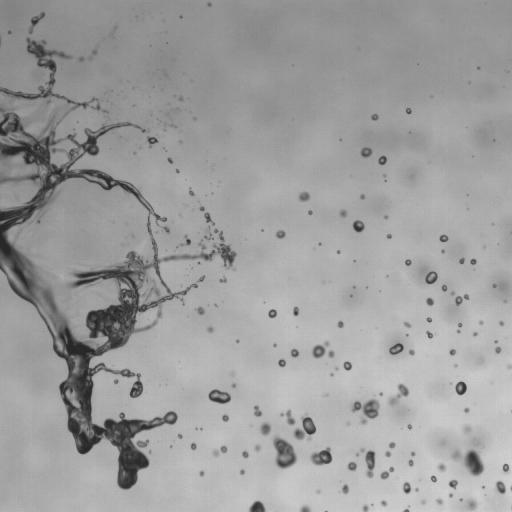droplet: (349, 393, 380, 425), (450, 447, 484, 476), (271, 434, 297, 469), (292, 412, 316, 441), (386, 383, 409, 407), (309, 445, 332, 465), (208, 388, 231, 404), (310, 340, 330, 358), (277, 408, 296, 425), (144, 133, 159, 148), (248, 500, 267, 511), (389, 342, 403, 356), (454, 293, 469, 306), (258, 421, 271, 436), (465, 498, 479, 511), (454, 380, 466, 395), (352, 220, 365, 233), (425, 270, 437, 284), (494, 480, 506, 494), (401, 481, 412, 494), (360, 147, 372, 158), (298, 191, 310, 202), (436, 462, 447, 473), (338, 483, 349, 494), (30, 30, 41, 41), (15, 196, 26, 207), (154, 231, 165, 242), (187, 243, 198, 254), (216, 265, 227, 276), (205, 274, 216, 285), (127, 332, 138, 343), (300, 346, 311, 357), (333, 354, 344, 365), (57, 369, 68, 380), (89, 393, 100, 404), (377, 402, 388, 413), (140, 410, 151, 421), (93, 415, 104, 426), (64, 433, 75, 444), (284, 433, 295, 444), (262, 434, 273, 445), (98, 436, 109, 447), (109, 446, 120, 457), (228, 446, 239, 457), (477, 451, 488, 462), (356, 458, 367, 469), (373, 461, 384, 472), (459, 465, 470, 476), (438, 472, 449, 483), (194, 305, 205, 315), (346, 461, 357, 471), (501, 463, 511, 474), (501, 473, 511, 484), (253, 405, 262, 417), (462, 424, 472, 434), (448, 479, 458, 489), (425, 330, 437, 338), (275, 230, 285, 239), (267, 309, 277, 318), (290, 348, 299, 358), (342, 361, 352, 370), (362, 503, 373, 511), (0, 200, 8, 211), (299, 504, 311, 511), (425, 297, 434, 306), (252, 443, 261, 452), (435, 496, 444, 505), (81, 48, 90, 57), (28, 54, 37, 63), (95, 136, 104, 145), (369, 152, 378, 161), (71, 162, 80, 171), (103, 166, 112, 175), (131, 179, 140, 188), (140, 189, 149, 198), (301, 200, 310, 209), (182, 245, 191, 254), (212, 253, 221, 262), (223, 268, 232, 277), (426, 322, 435, 331), (112, 346, 121, 355), (283, 353, 292, 362), (88, 357, 97, 366), (58, 403, 67, 412), (59, 413, 68, 422), (254, 416, 263, 425), (294, 420, 303, 429), (459, 447, 468, 456), (444, 458, 453, 467), (110, 461, 119, 470), (372, 465, 381, 474), (136, 467, 145, 476), (487, 482, 496, 491), (452, 487, 461, 496), (473, 493, 482, 502), (426, 497, 435, 506), (378, 155, 386, 165), (339, 209, 347, 218), (439, 234, 448, 242), (206, 325, 215, 333), (278, 358, 286, 367), (241, 449, 249, 458), (505, 318, 511, 329), (505, 487, 511, 498), (371, 505, 382, 511), (430, 505, 441, 511), (458, 505, 469, 511), (219, 275, 227, 283), (221, 414, 229, 422), (188, 187, 195, 196), (293, 306, 299, 316), (371, 113, 378, 121), (403, 259, 411, 266), (336, 320, 343, 328), (403, 321, 411, 328), (327, 350, 334, 358), (189, 442, 196, 450), (429, 475, 437, 482), (0, 272, 5, 283), (494, 346, 501, 353), (477, 357, 484, 364), (32, 9, 39, 16), (1, 32, 8, 39), (43, 43, 50, 50), (72, 51, 79, 58), (51, 54, 58, 61), (70, 56, 77, 63), (43, 67, 50, 74), (53, 72, 60, 79), (11, 85, 18, 92), (22, 87, 29, 94), (172, 99, 179, 106), (161, 115, 168, 122), (140, 132, 147, 139), (168, 163, 175, 170), (111, 172, 118, 179), (3, 180, 10, 187), (299, 185, 306, 192), (292, 191, 299, 198), (149, 222, 156, 229), (190, 237, 197, 244), (174, 248, 181, 255), (232, 256, 239, 263), (177, 258, 184, 265), (158, 261, 165, 268), (434, 279, 441, 286), (9, 291, 16, 298), (473, 324, 480, 331), (316, 338, 323, 345), (306, 344, 313, 351), (401, 348, 408, 355), (59, 358, 66, 365), (90, 374, 97, 381), (129, 375, 136, 382), (404, 381, 411, 388), (392, 387, 399, 394), (55, 394, 62, 401), (359, 398, 366, 405), (356, 408, 363, 415), (157, 410, 164, 417), (124, 413, 131, 420), (113, 415, 120, 422), (97, 420, 104, 427), (288, 424, 295, 431), (66, 431, 73, 438), (467, 431, 474, 438), (130, 436, 137, 443), (91, 443, 98, 450), (315, 445, 322, 452), (472, 445, 479, 452), (139, 446, 146, 453), (247, 448, 254, 455), (270, 448, 277, 455), (445, 449, 452, 456), (145, 453, 152, 460), (373, 454, 380, 461), (350, 455, 357, 462), (437, 456, 444, 463), (287, 464, 294, 471), (274, 465, 281, 472), (433, 469, 440, 476), (478, 471, 485, 478), (119, 487, 126, 494), (441, 494, 448, 501), (246, 499, 253, 506), (461, 499, 468, 506), (262, 501, 269, 508), (374, 501, 381, 508), (308, 504, 315, 511), (241, 506, 250, 511), (309, 506, 318, 511), (378, 506, 387, 511), (198, 205, 205, 211), (470, 258, 476, 265), (441, 284, 447, 291), (408, 349, 415, 355), (449, 349, 456, 355), (229, 370, 235, 377), (406, 423, 412, 430), (420, 498, 426, 505), (380, 500, 387, 506), (459, 256, 464, 264), (408, 459, 413, 467), (78, 56, 84, 62), (178, 95, 184, 101), (405, 108, 411, 114), (167, 157, 173, 163), (239, 469, 245, 475), (0, 134, 4, 143), (471, 332, 478, 337), (450, 290, 455, 296), (499, 320, 504, 326), (231, 382, 236, 388), (464, 407, 469, 413), (177, 433, 182, 439), (410, 451, 415, 457), (199, 470, 204, 476), (315, 489, 321, 494), (448, 492, 453, 498), (293, 507, 300, 511), (472, 507, 479, 511), (175, 168, 180, 173), (360, 194, 365, 199), (178, 213, 183, 218), (383, 214, 388, 219), (426, 317, 431, 322), (478, 320, 483, 325), (272, 342, 277, 347), (506, 364, 511, 369), (329, 372, 334, 377), (113, 379, 118, 384), (346, 421, 351, 426), (26, 20, 31, 25), (35, 21, 40, 26), (22, 41, 27, 46), (89, 44, 94, 49), (55, 46, 60, 51), (22, 47, 27, 52), (96, 48, 101, 53), (63, 49, 68, 54), (86, 50, 91, 55), (78, 51, 83, 56), (92, 54, 97, 59), (83, 58, 88, 63), (55, 64, 60, 69), (44, 76, 49, 81), (1, 83, 6, 88), (42, 84, 47, 89), (51, 88, 56, 93), (34, 89, 39, 94), (93, 92, 98, 97), (78, 97, 83, 102), (99, 103, 104, 108), (165, 104, 170, 109), (369, 109, 374, 114), (121, 117, 126, 122), (129, 118, 134, 123), (112, 119, 117, 124), (166, 119, 171, 124), (172, 119, 177, 124), (106, 120, 111, 125), (140, 123, 145, 128), (120, 125, 125, 130), (126, 125, 131, 130), (165, 125, 170, 130), (112, 127, 117, 132), (105, 130, 110, 135), (148, 132, 153, 137), (152, 142, 157, 147), (364, 142, 369, 147), (131, 145, 136, 150), (356, 147, 361, 152), (83, 151, 88, 156), (356, 152, 361, 157), (94, 153, 99, 158), (359, 155, 364, 160), (384, 160, 389, 165), (68, 165, 73, 170), (308, 191, 313, 196), (355, 192, 360, 197), (185, 193, 190, 198), (149, 200, 154, 205), (195, 203, 200, 208), (199, 210, 204, 215), (335, 212, 340, 217), (149, 214, 154, 219), (209, 214, 214, 219), (361, 218, 366, 223), (213, 223, 218, 228), (348, 224, 353, 229), (209, 225, 214, 230), (278, 225, 283, 230), (350, 228, 355, 233), (360, 229, 365, 234), (284, 231, 289, 236), (152, 233, 157, 238), (279, 237, 284, 242), (181, 238, 186, 243), (223, 240, 228, 245), (229, 245, 234, 250), (165, 251, 170, 256), (156, 253, 161, 258), (473, 254, 478, 259), (199, 257, 204, 262), (185, 258, 190, 263), (192, 258, 197, 263), (464, 258, 469, 263), (168, 259, 173, 264), (468, 263, 473, 268), (195, 273, 200, 278), (420, 276, 425, 281), (191, 278, 196, 283), (197, 281, 202, 286), (166, 282, 171, 287), (5, 284, 10, 289), (180, 285, 185, 290), (446, 287, 451, 292), (170, 288, 175, 293), (349, 288, 354, 293), (9, 289, 14, 294), (182, 294, 187, 299), (430, 294, 435, 299), (450, 295, 455, 300), (17, 296, 22, 301), (461, 298, 466, 303), (164, 299, 169, 304), (450, 299, 455, 304), (26, 301, 31, 306), (422, 301, 427, 306), (201, 303, 206, 308), (266, 305, 271, 310), (288, 308, 293, 313), (297, 309, 302, 314), (193, 310, 198, 315), (275, 312, 280, 317), (200, 313, 205, 318), (35, 314, 40, 319), (271, 316, 276, 321), (157, 317, 162, 322), (407, 318, 412, 323), (333, 319, 338, 324), (473, 319, 478, 324), (503, 320, 508, 325), (342, 321, 347, 326), (153, 324, 158, 329), (403, 326, 408, 331), (146, 328, 151, 333), (44, 329, 49, 334), (203, 330, 208, 335), (209, 331, 214, 336), (47, 335, 52, 340), (326, 336, 331, 341), (390, 340, 395, 345), (492, 342, 497, 347), (48, 343, 53, 348), (288, 344, 293, 349), (448, 344, 453, 349), (296, 346, 301, 351), (324, 346, 329, 351), (413, 347, 418, 352), (454, 347, 459, 352), (490, 348, 495, 353), (323, 351, 328, 356), (333, 351, 338, 356), (52, 352, 57, 357), (297, 352, 302, 357), (453, 352, 458, 357), (496, 352, 501, 357), (388, 353, 393, 358), (292, 356, 297, 361), (311, 356, 316, 361), (273, 359, 278, 364), (350, 361, 355, 366), (105, 363, 110, 368), (111, 365, 116, 370), (117, 365, 122, 370), (350, 365, 355, 370), (339, 366, 344, 371), (129, 367, 134, 372), (329, 367, 334, 372), (333, 370, 338, 375), (106, 371, 111, 376), (116, 373, 121, 378), (139, 377, 144, 382), (230, 377, 235, 382), (452, 379, 457, 384), (141, 382, 146, 387), (465, 383, 470, 388), (126, 386, 131, 391), (218, 386, 223, 391), (450, 386, 455, 391), (206, 387, 211, 392), (55, 388, 60, 393), (464, 389, 469, 394), (452, 391, 457, 396), (203, 393, 208, 398), (137, 394, 142, 399), (400, 394, 405, 399), (204, 396, 209, 401), (214, 401, 219, 406), (224, 401, 229, 406), (258, 406, 263, 411), (164, 407, 169, 412), (249, 407, 254, 412), (281, 408, 286, 413), (376, 408, 381, 413), (468, 408, 473, 413), (175, 410, 180, 415), (226, 411, 231, 416), (307, 412, 312, 417), (217, 414, 222, 419), (282, 415, 287, 420), (374, 415, 379, 420), (365, 416, 370, 421), (175, 418, 180, 423), (313, 421, 318, 426), (162, 422, 167, 427), (358, 423, 363, 428), (470, 424, 475, 429), (310, 432, 315, 437), (175, 437, 180, 442), (384, 440, 389, 445), (195, 442, 200, 447), (215, 445, 220, 450), (320, 445, 325, 450), (364, 446, 369, 451), (369, 446, 374, 451), (72, 447, 77, 452), (226, 447, 231, 452), (354, 447, 359, 452), (388, 447, 393, 452), (207, 448, 212, 453), (329, 450, 334, 455), (218, 451, 223, 456), (361, 451, 366, 456), (76, 452, 81, 457), (209, 454, 214, 459), (238, 454, 243, 459), (407, 454, 412, 459), (246, 455, 251, 460), (410, 455, 415, 460), (343, 460, 348, 465), (403, 460, 408, 465), (198, 465, 203, 470), (235, 466, 240, 471), (243, 466, 248, 471), (384, 466, 389, 471), (347, 469, 352, 474), (388, 471, 393, 476), (447, 476, 452, 481), (338, 482, 343, 487), (130, 484, 135, 489), (347, 484, 352, 489), (409, 484, 414, 489), (337, 485, 342, 490), (504, 485, 509, 490), (448, 486, 453, 491), (409, 488, 414, 493), (480, 488, 485, 493), (399, 489, 404, 494), (339, 491, 344, 496), (496, 491, 501, 496), (383, 496, 388, 501), (432, 501, 437, 506), (422, 503, 427, 508), (402, 504, 407, 509), (0, 91, 3, 98), (192, 116, 196, 121), (138, 144, 142, 149), (308, 210, 313, 214), (386, 234, 391, 238), (334, 366, 339, 370), (378, 392, 383, 396), (207, 2, 211, 6), (382, 173, 386, 177), (482, 245, 486, 249), (441, 249, 445, 253), (336, 250, 340, 254), (197, 261, 201, 265), (492, 283, 496, 287), (214, 303, 218, 307), (235, 339, 239, 343), (453, 363, 457, 367), (249, 423, 253, 427), (481, 485, 485, 489), (414, 487, 418, 491), (133, 150, 136, 155), (494, 340, 499, 343), (148, 449, 151, 454), (508, 359, 511, 364), (508, 368, 511, 373), (508, 464, 511, 469), (358, 508, 363, 511), (366, 508, 371, 511), (8, 30, 11, 34), (178, 140, 182, 143), (491, 222, 495, 225), (349, 294, 353, 297), (405, 333, 409, 336), (207, 0, 212, 2), (0, 269, 2, 274), (179, 15, 182, 18), (477, 66, 480, 69), (430, 95, 433, 98), (339, 138, 342, 141), (318, 242, 321, 245), (353, 259, 356, 262), (352, 285, 355, 288), (503, 300, 506, 303), (449, 382, 452, 385), (169, 445, 172, 448), (459, 498, 462, 501), (206, 5, 209, 8), (177, 12, 180, 15), (181, 13, 184, 16), (176, 15, 179, 18), (10, 29, 13, 32), (4, 30, 7, 33), (8, 33, 11, 36), (0, 39, 3, 42), (476, 63, 479, 66), (473, 65, 476, 68), (479, 66, 482, 69), (476, 69, 479, 72), (59, 92, 62, 95), (176, 94, 179, 97), (182, 95, 185, 98), (67, 96, 70, 99), (410, 107, 413, 110), (402, 108, 405, 111), (410, 110, 413, 113), (169, 111, 172, 114), (403, 111, 406, 114), (376, 112, 379, 115), (407, 113, 410, 116), (155, 119, 158, 122), (371, 119, 374, 122), (136, 122, 139, 125), (159, 122, 162, 125), (160, 125, 163, 128), (175, 127, 178, 130), (137, 128, 140, 131), (339, 135, 342, 138), (489, 138, 492, 141), (338, 140, 341, 143), (164, 146, 167, 149), (135, 148, 138, 151), (161, 149, 164, 152), (129, 150, 132, 153), (132, 154, 135, 157), (385, 155, 388, 158), (171, 158, 174, 161), (166, 161, 169, 164), (377, 163, 380, 166), (172, 168, 175, 171), (178, 168, 181, 171), (175, 172, 178, 175), (384, 176, 387, 179), (185, 189, 188, 192), (207, 191, 210, 194), (364, 194, 367, 197), (359, 198, 362, 201), (203, 209, 206, 212), (311, 209, 314, 212), (304, 210, 307, 213), (155, 211, 158, 214), (385, 212, 388, 215), (310, 213, 313, 216), (159, 214, 162, 217), (307, 214, 310, 217), (380, 215, 383, 218), (387, 216, 390, 219), (166, 217, 169, 220), (203, 217, 206, 220), (382, 218, 385, 221), (207, 221, 210, 224), (258, 226, 261, 229), (263, 228, 266, 231), (387, 230, 390, 233), (260, 231, 263, 234), (390, 232, 393, 235), (439, 232, 442, 235), (444, 232, 447, 235), (221, 233, 224, 236), (383, 235, 386, 238), (436, 235, 439, 238), (390, 236, 393, 239), (387, 238, 390, 241), (446, 239, 449, 242), (320, 240, 323, 243), (315, 241, 318, 244), (441, 241, 444, 244), (319, 244, 322, 247), (336, 246, 339, 249), (438, 248, 441, 251), (333, 249, 336, 252), (339, 249, 342, 252), (442, 252, 445, 255), (336, 253, 339, 256), (458, 255, 461, 258), (353, 256, 356, 259), (405, 256, 408, 259), (402, 258, 405, 261), (349, 259, 352, 262), (475, 260, 478, 263), (352, 261, 355, 264), (410, 261, 413, 264), (402, 262, 405, 265), (460, 263, 463, 266), (473, 263, 476, 266), (408, 264, 411, 267), (434, 269, 437, 272), (425, 270, 428, 273), (159, 272, 162, 275), (382, 273, 385, 276), (436, 273, 439, 276), (388, 274, 391, 277), (162, 278, 165, 281), (226, 278, 229, 281), (216, 279, 219, 282), (492, 280, 495, 283), (221, 281, 224, 284), (186, 283, 189, 286), (363, 283, 366, 286), (489, 284, 492, 287), (355, 285, 358, 288), (190, 286, 193, 289), (367, 286, 370, 289), (492, 287, 495, 290), (468, 295, 471, 298), (347, 296, 350, 299), (216, 302, 219, 305), (293, 303, 296, 306), (458, 303, 461, 306), (212, 305, 215, 308), (272, 306, 275, 309), (275, 309, 278, 312), (265, 313, 268, 316), (425, 314, 428, 317), (501, 318, 504, 321), (458, 319, 461, 322), (482, 319, 485, 322), (41, 320, 44, 323), (426, 321, 429, 324), (429, 321, 432, 324), (482, 322, 485, 325), (496, 322, 499, 325), (43, 324, 46, 327), (211, 324, 214, 327), (339, 327, 342, 330), (428, 329, 431, 332), (472, 329, 475, 332), (457, 332, 460, 335), (469, 332, 472, 335), (475, 334, 478, 337), (234, 336, 237, 339), (429, 337, 432, 340), (492, 337, 495, 340), (238, 340, 241, 343), (233, 341, 236, 344), (269, 343, 272, 346), (276, 343, 279, 346), (272, 346, 275, 349), (386, 350, 389, 353), (446, 350, 449, 353), (499, 350, 502, 353), (396, 352, 399, 355), (413, 352, 416, 355), (407, 353, 410, 356), (344, 358, 347, 361), (284, 363, 287, 366), (457, 364, 460, 367), (344, 369, 347, 372), (347, 369, 350, 372), (328, 375, 331, 378), (331, 375, 334, 378), (114, 383, 117, 386), (235, 384, 238, 387), (379, 388, 382, 391), (141, 390, 144, 393), (324, 396, 327, 399), (351, 400, 354, 403), (254, 402, 257, 405), (462, 411, 465, 414), (226, 419, 229, 422), (410, 422, 413, 425), (196, 425, 199, 428), (191, 426, 194, 429), (202, 427, 205, 430), (315, 427, 318, 430), (405, 427, 408, 430), (410, 427, 413, 430), (197, 428, 200, 431), (179, 431, 182, 434), (174, 433, 177, 436), (181, 436, 184, 439), (148, 439, 151, 442), (169, 441, 172, 444), (166, 443, 169, 446), (187, 444, 190, 447), (171, 445, 174, 448), (411, 448, 414, 451), (414, 451, 417, 454), (244, 457, 247, 460), (412, 460, 415, 463), (410, 465, 413, 468), (499, 466, 502, 469), (393, 468, 396, 471), (203, 471, 206, 474), (236, 471, 239, 474), (196, 472, 199, 475), (243, 472, 246, 475), (239, 474, 242, 477), (429, 480, 432, 483), (481, 482, 484, 485), (455, 484, 458, 487), (418, 487, 421, 490), (435, 495, 438, 498), (451, 495, 454, 498), (456, 499, 459, 502), (367, 503, 370, 506), (323, 507, 326, 510), (407, 507, 410, 510), (132, 104, 135, 106), (408, 131, 411, 133), (493, 138, 495, 141), (384, 179, 386, 182), (111, 199, 113, 202), (260, 229, 263, 231), (386, 274, 388, 277), (365, 286, 367, 289), (468, 81, 470, 83), (187, 97, 189, 99), (76, 121, 78, 123), (211, 192, 213, 194), (466, 194, 468, 196), (191, 267, 193, 269), (400, 427, 402, 429), (189, 111, 191, 112), (296, 326, 297, 328), (484, 494, 485, 495)
ligament: (28, 11, 45, 34), (211, 445, 228, 457), (380, 465, 394, 479), (384, 441, 395, 457), (88, 45, 98, 60), (473, 438, 484, 448), (109, 25, 117, 37), (456, 322, 462, 333), (123, 221, 132, 227), (402, 505, 410, 511), (321, 393, 329, 397), (131, 232, 135, 239), (195, 427, 202, 431), (162, 147, 166, 151), (0, 35, 1, 46), (510, 485, 511, 491), (510, 409, 511, 412), (324, 510, 327, 511)
